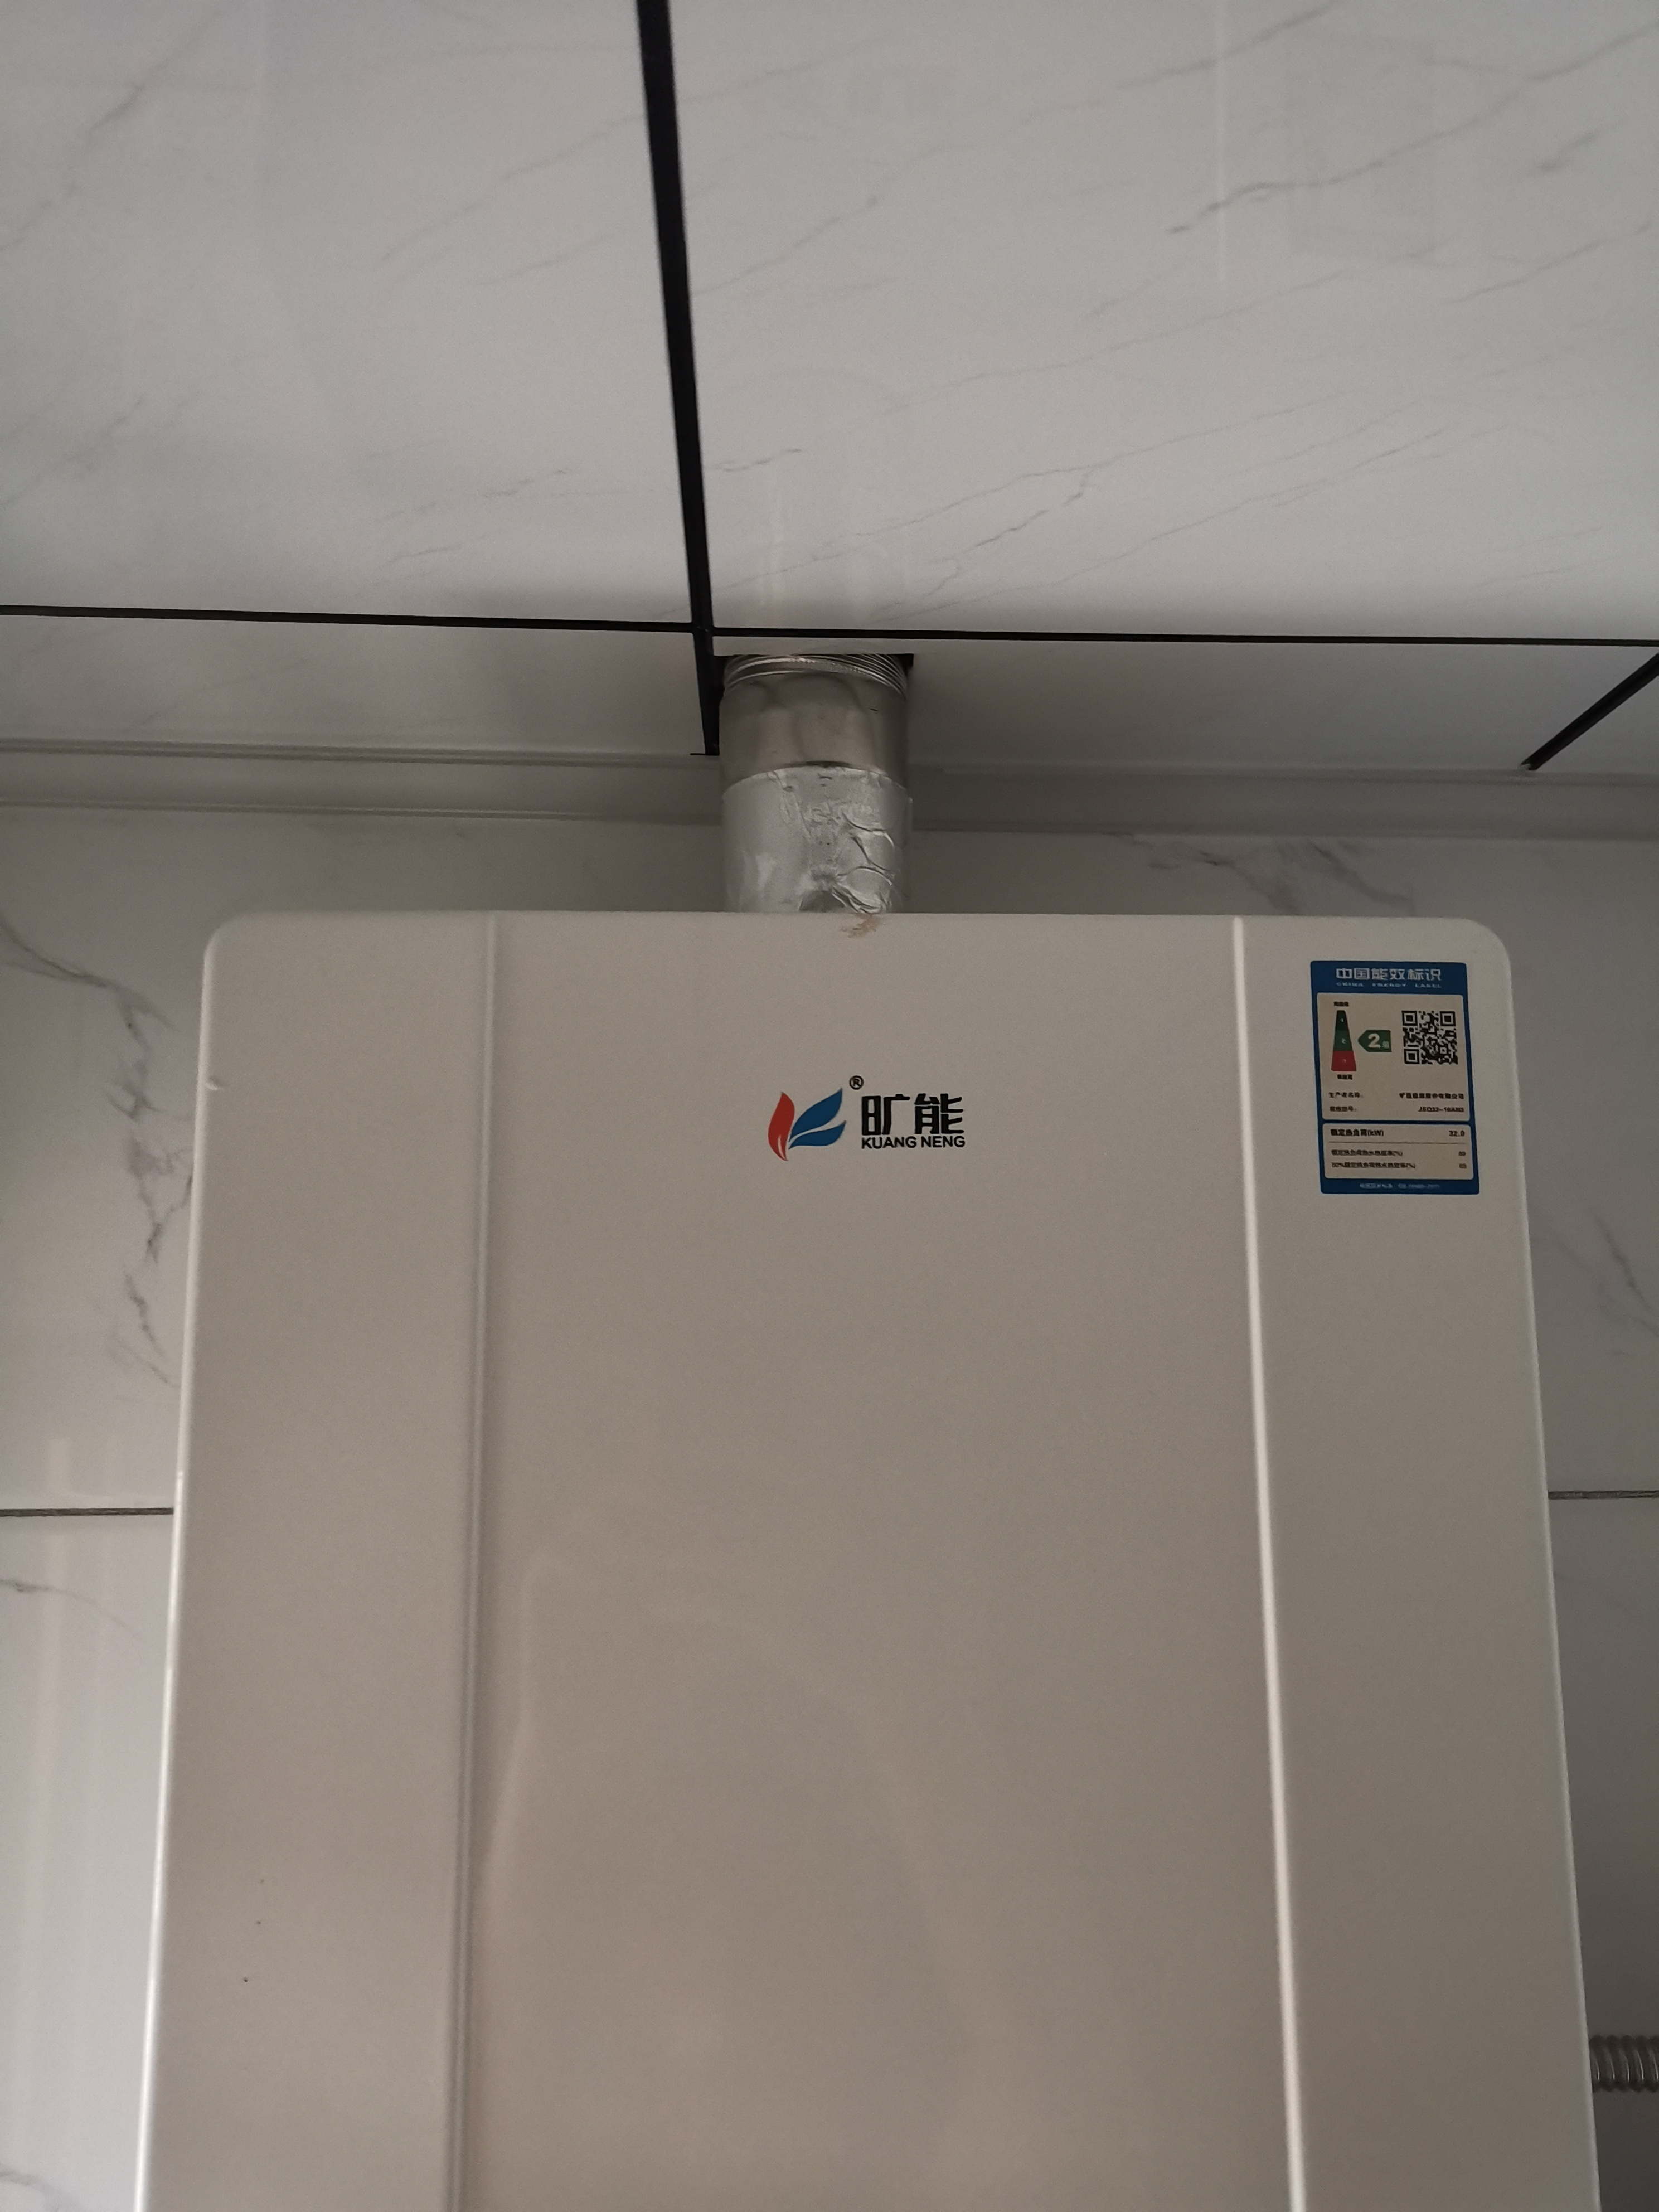loudou: (753, 1059, 983, 1163)
